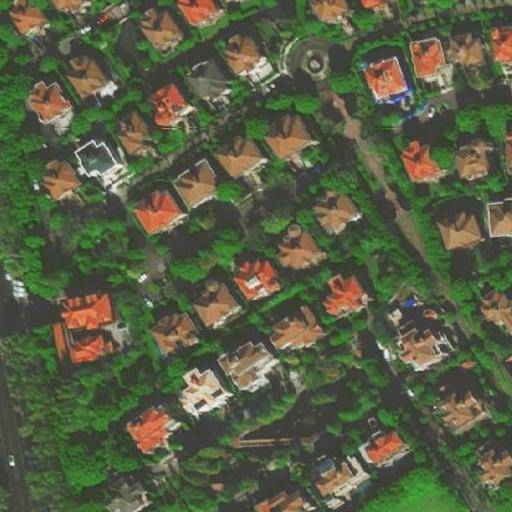building: (97, 457, 153, 512), (264, 113, 319, 167), (398, 322, 457, 372), (275, 215, 330, 268), (220, 340, 277, 391), (270, 297, 327, 348), (179, 365, 232, 419), (128, 404, 180, 455), (193, 280, 244, 330), (29, 74, 79, 125), (136, 186, 186, 235), (312, 456, 364, 503), (224, 31, 273, 80), (189, 49, 237, 99), (175, 160, 222, 211), (233, 251, 282, 299), (77, 136, 127, 183), (437, 381, 488, 427), (218, 134, 269, 180), (324, 272, 371, 321), (442, 201, 489, 249), (150, 80, 197, 127), (152, 310, 203, 353), (64, 293, 115, 332), (367, 56, 410, 100), (254, 483, 319, 512), (144, 8, 187, 51), (364, 427, 409, 468), (41, 160, 85, 201), (404, 141, 446, 183), (412, 34, 450, 79), (117, 108, 156, 151), (71, 56, 112, 96), (319, 192, 361, 231), (263, 190, 306, 224), (449, 28, 487, 66), (476, 445, 512, 485), (459, 139, 496, 177), (11, 3, 51, 37), (72, 330, 113, 363), (49, 310, 70, 366), (486, 288, 512, 332), (489, 25, 512, 65), (312, 1, 351, 23), (493, 202, 512, 239), (499, 125, 511, 175)
